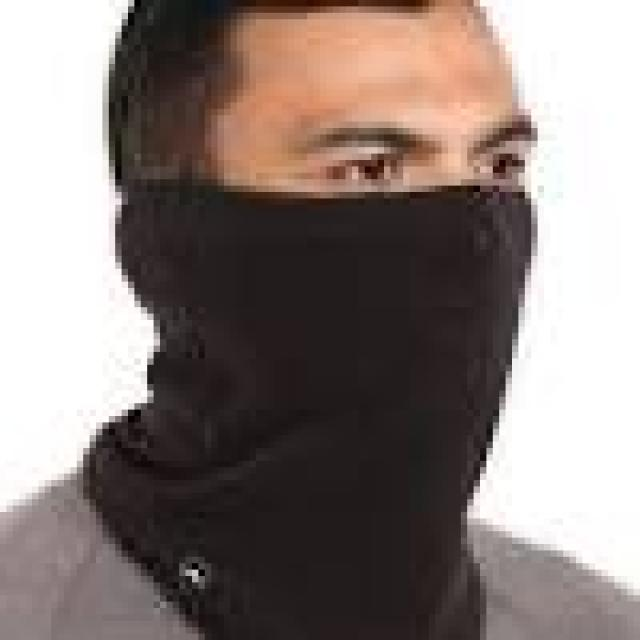6_pasamontana: (83, 0, 532, 640)
